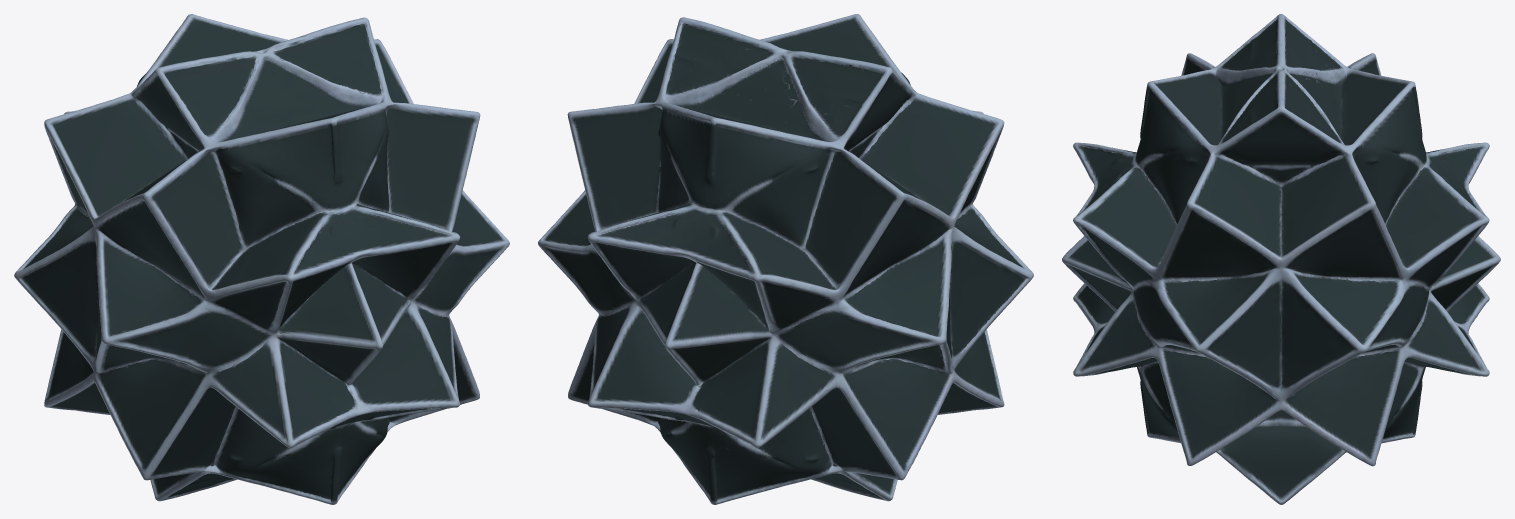
Rendered from 02_icosahedral_vanilla.glb.
3 renders of one model, left to right at view 1: azimuth 30°, elevation 25°; view 2: azimuth 150°, elevation 25°; view 3: azimuth 270°, elevation 25°, orthographic. The views are drawn at different scales.
Parts seen in each view (by area): view 1: world; view 2: world; view 3: world.
Part boxes in pixels (bbox=[...]): world: bbox=[14, 14, 509, 504]; world: bbox=[538, 14, 1033, 504]; world: bbox=[1062, 14, 1500, 504].
Size of the model in its own units: 0.9855 by 1 by 1.
1 material, 1 textured.
